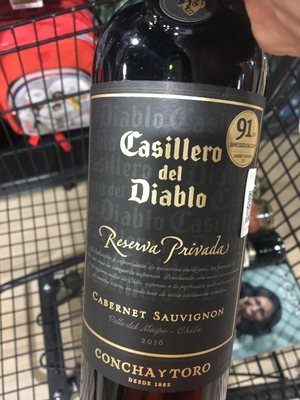casillero del diablo reserva privada cabernet sauvignon: (70, 13, 275, 388)
